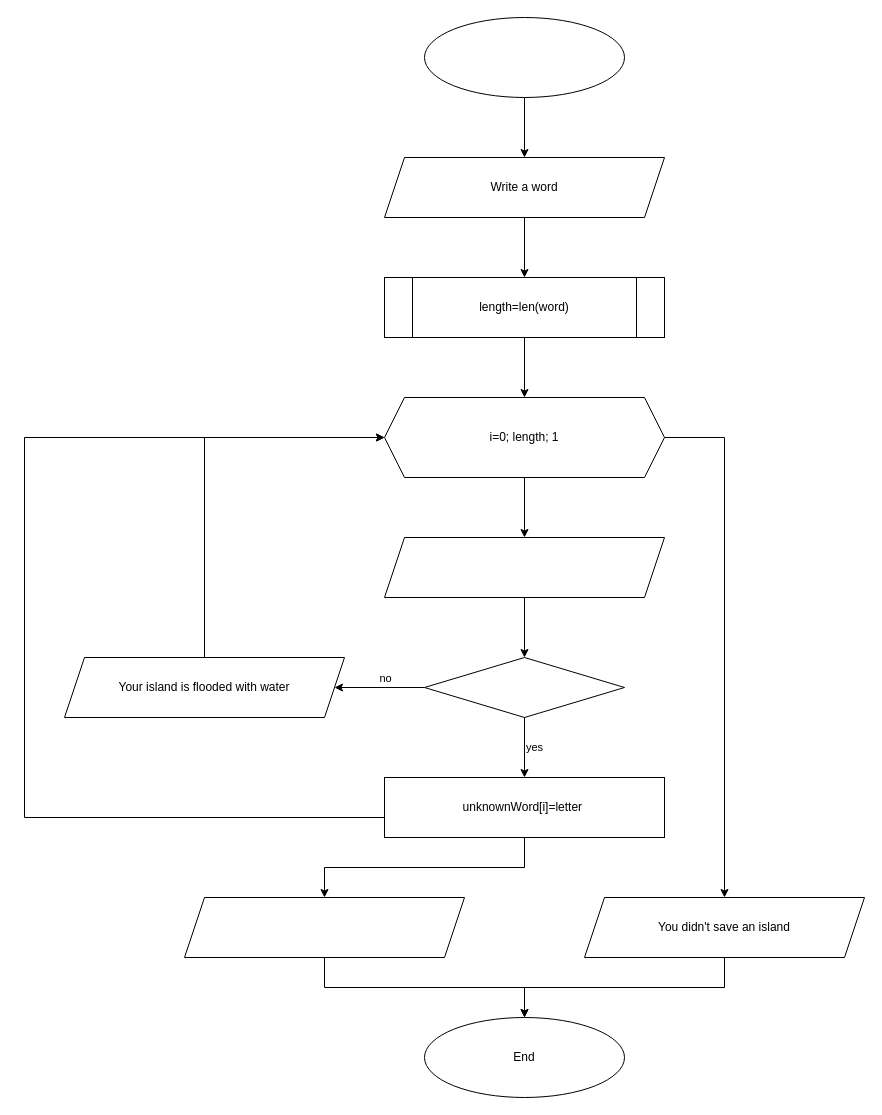
Image size: 882x1115. Some labels were removed from this diagram. Here are the shapes that lost their labels. From the top down, the centre of each, then its label:
At point 524,57: "Begin".
At point 524,567: "Write a letter or word".
At point 524,687: "world [i]==letter".
At point 324,927: "You saved an island".
